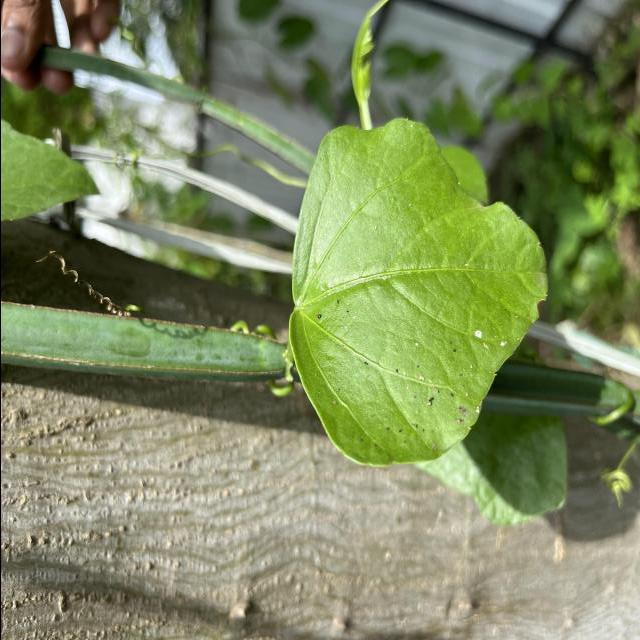Cissus quadrangularis: (284, 113, 550, 471)
